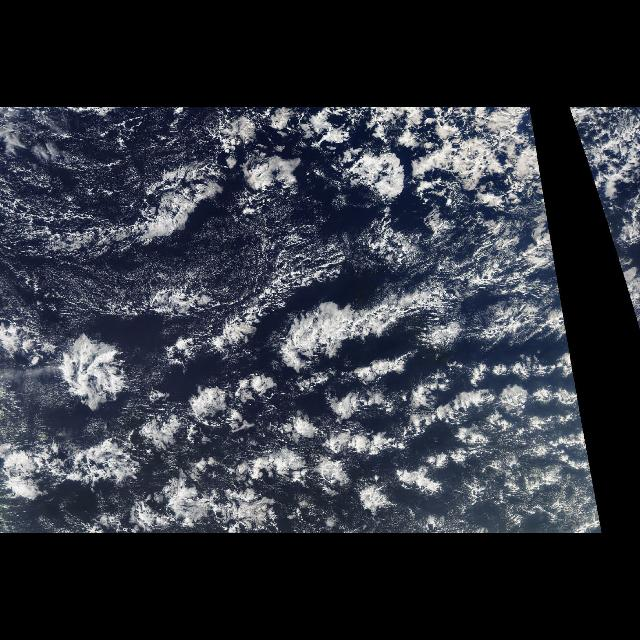Fish: (106, 154, 228, 252), (50, 326, 138, 416)
Flower: (68, 333, 558, 531)
Sugar: (1, 109, 263, 318)
